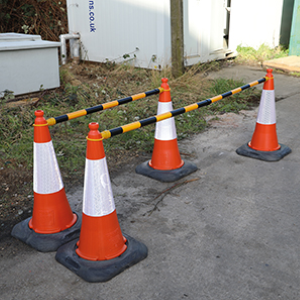traffic cone: (55, 122, 148, 283), (11, 110, 88, 252), (135, 77, 199, 185), (236, 68, 292, 164)
